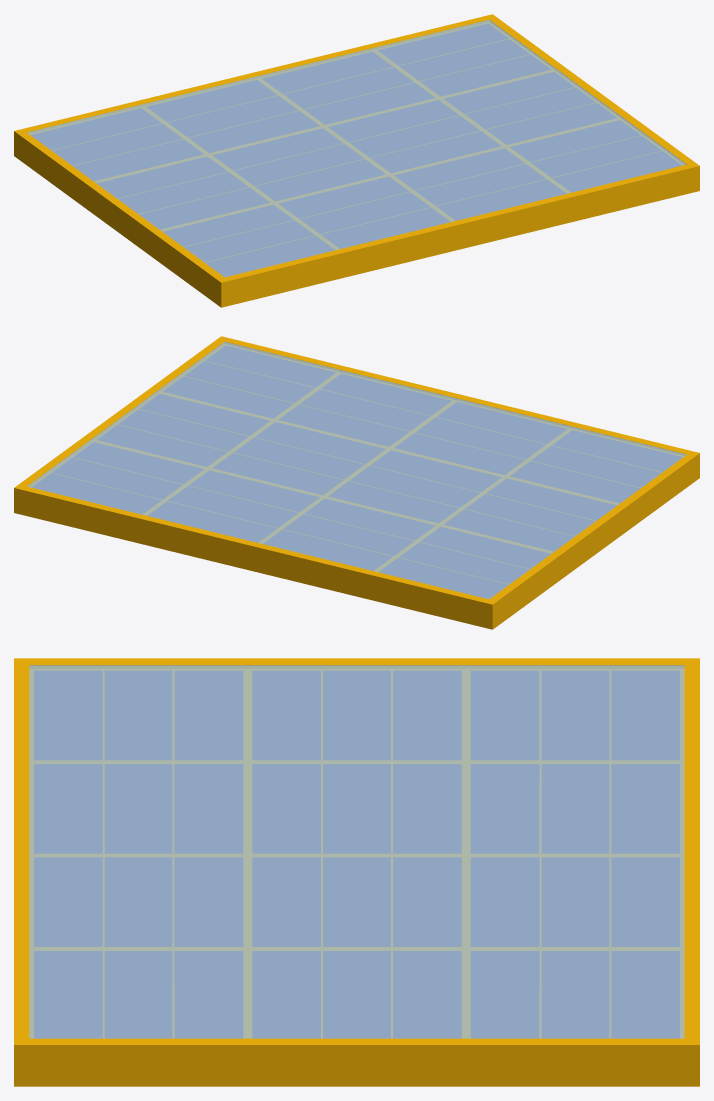
File: epe_solar_flat.dae
3 renders of one model, top to bottom at view 1: azimuth 30°, elevation 25°; view 2: azimuth 150°, elevation 25°; view 3: azimuth 270°, elevation 25°, orthographic. The views are drawn at different scales.
Visible parts, largest first — view 1: solar_flat; view 2: solar_flat; view 3: solar_flat.
Part boxes in pixels (x1,y1,x2,y2): solar_flat: [14, 14, 699, 307]; solar_flat: [14, 336, 699, 629]; solar_flat: [14, 658, 699, 1086].
Bounding box in the file's own units: 1 × 0.75 × 0.05.
